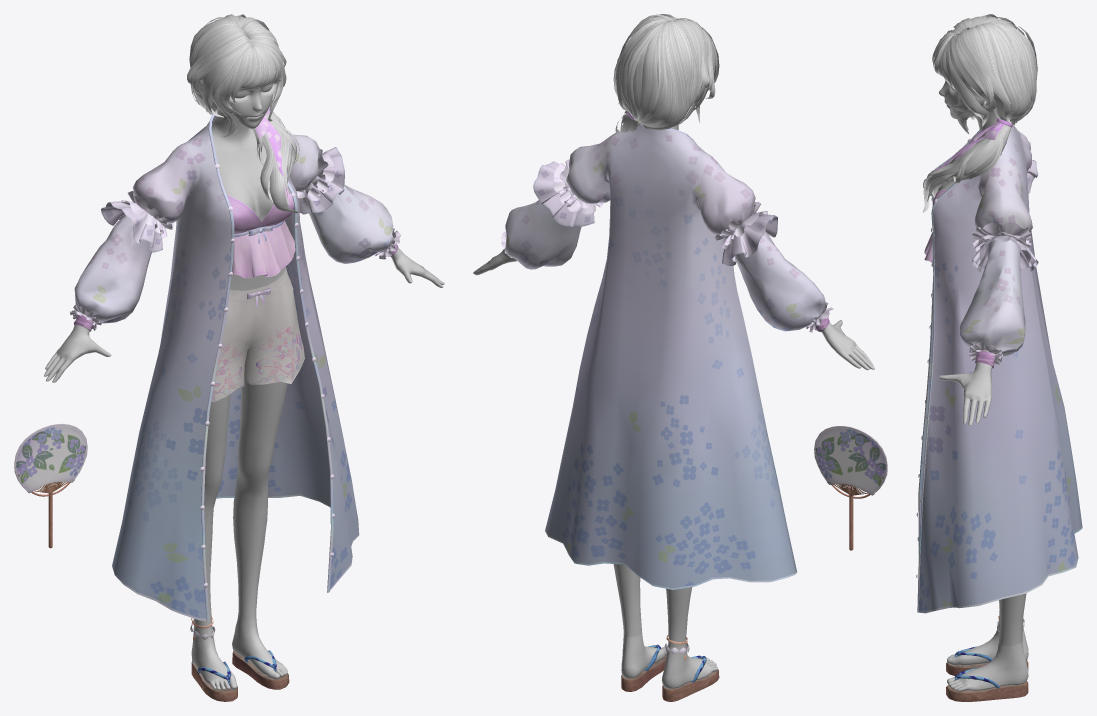
The model's file is fan_055.fbx.
The picture shows the model from 3 angles, left to right: view 1: azimuth 30°, elevation 25°; view 2: azimuth 150°, elevation 25°; view 3: azimuth 270°, elevation 25°; orthographic projection.
Parts seen in each view (by area): view 1: Cloth_0, Cloth_2, Hat_0, Cloth_1, Weapon_0, Hand_0.001, Face_0.001; view 2: Cloth_0, Hat_0, Cloth_2, Weapon_0, Hand_0.001; view 3: Cloth_0, Hat_0, Cloth_2, Hand_0.001, Hat_1, Face_0.001.
Part boxes in pixels (bbox=[...]): Cloth_0: bbox=[69, 111, 400, 701]; Cloth_2: bbox=[191, 107, 287, 690]; Hat_0: bbox=[187, 14, 299, 212]; Cloth_1: bbox=[211, 266, 304, 401]; Weapon_0: bbox=[14, 423, 87, 548]; Hand_0.001: bbox=[44, 248, 444, 382]; Face_0.001: bbox=[229, 84, 272, 128]; Cloth_0: bbox=[501, 124, 833, 701]; Hat_0: bbox=[613, 14, 719, 132]; Cloth_2: bbox=[613, 125, 717, 688]; Weapon_0: bbox=[814, 426, 887, 550]; Hand_0.001: bbox=[473, 249, 874, 370]; Cloth_0: bbox=[916, 125, 1082, 701]; Hat_0: bbox=[922, 14, 1037, 212]; Cloth_2: bbox=[937, 107, 1028, 691]; Hand_0.001: bbox=[939, 362, 992, 425]; Hat_1: bbox=[931, 118, 1012, 171]; Face_0.001: bbox=[939, 80, 986, 118].
Size of the model in its own units: 118 by 177 by 40.18.
